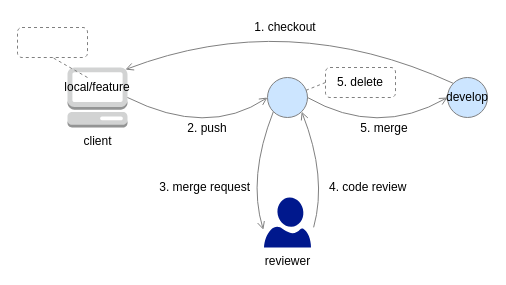
Some shapes in this 506 by 285 pixel diagram are drawn without their labels. Here are the shapes that lost their labels. From the top down, the centre of each, then its label:
point 52,42: 2. commit
point 287,97: feature
